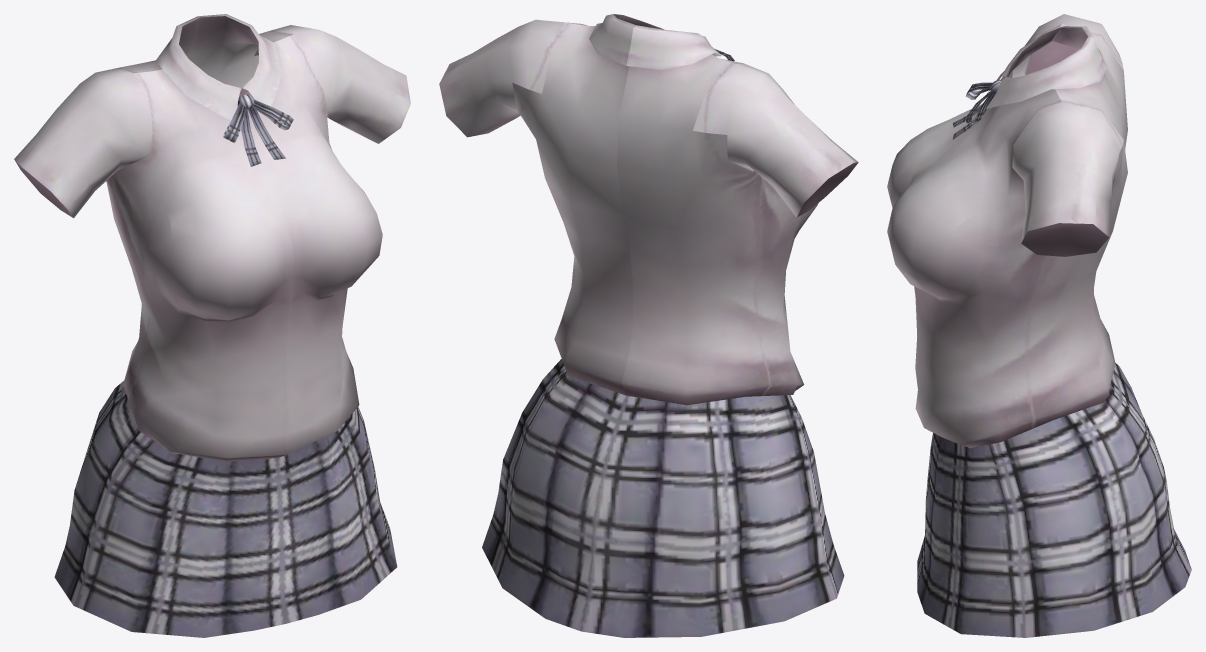
The model's file is nvzhuang1.FBX.
The picture shows the model from 3 angles, left to right: view 1: azimuth 30°, elevation 25°; view 2: azimuth 150°, elevation 25°; view 3: azimuth 270°, elevation 25°; orthographic projection. The views are drawn at different scales.
Visible parts, largest first — view 1: objdefault71; view 2: objdefault71; view 3: objdefault71.
Part boxes in pixels (bbox=[...]): objdefault71: bbox=[14, 14, 410, 637]; objdefault71: bbox=[439, 14, 858, 637]; objdefault71: bbox=[887, 14, 1191, 637].
Size of the model in its own units: 0.4625 by 0.6279 by 0.3203.
Materials: 1 (1 with a texture image).
